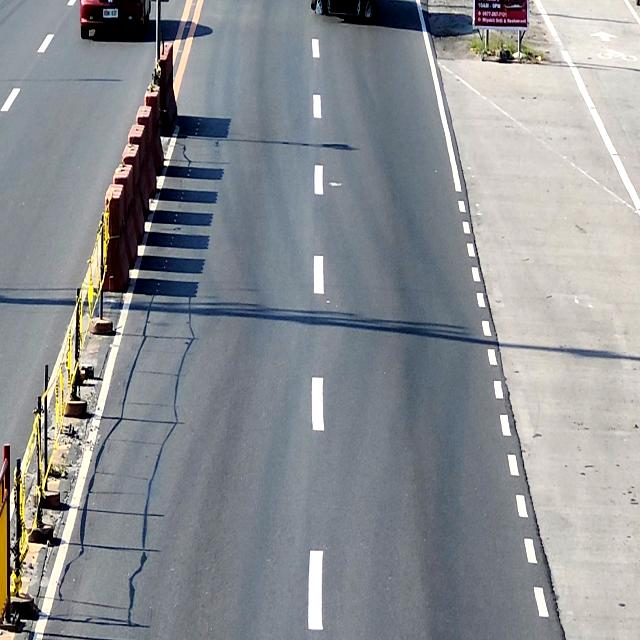Car: (80, 0, 150, 41)
License-Plate: (102, 9, 118, 18)
